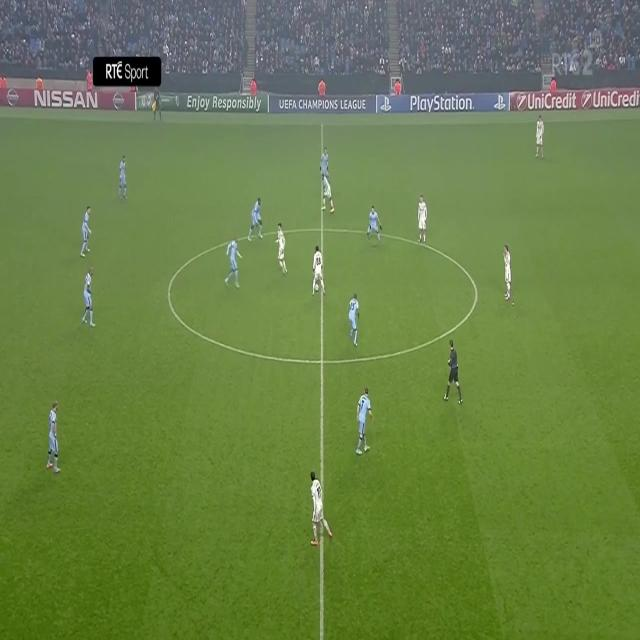Ball: (314, 279, 320, 296)
Player: (308, 469, 334, 550), (43, 398, 63, 478), (354, 388, 375, 460), (225, 235, 244, 290), (81, 267, 97, 332), (310, 241, 327, 300), (362, 201, 383, 246), (248, 195, 265, 245), (348, 290, 362, 347), (274, 222, 288, 276), (320, 168, 335, 217), (80, 204, 92, 260), (417, 194, 428, 248), (117, 154, 129, 202), (504, 241, 512, 304), (535, 113, 545, 163), (318, 146, 332, 179)
Referee: (442, 336, 464, 407), (151, 86, 164, 122)
